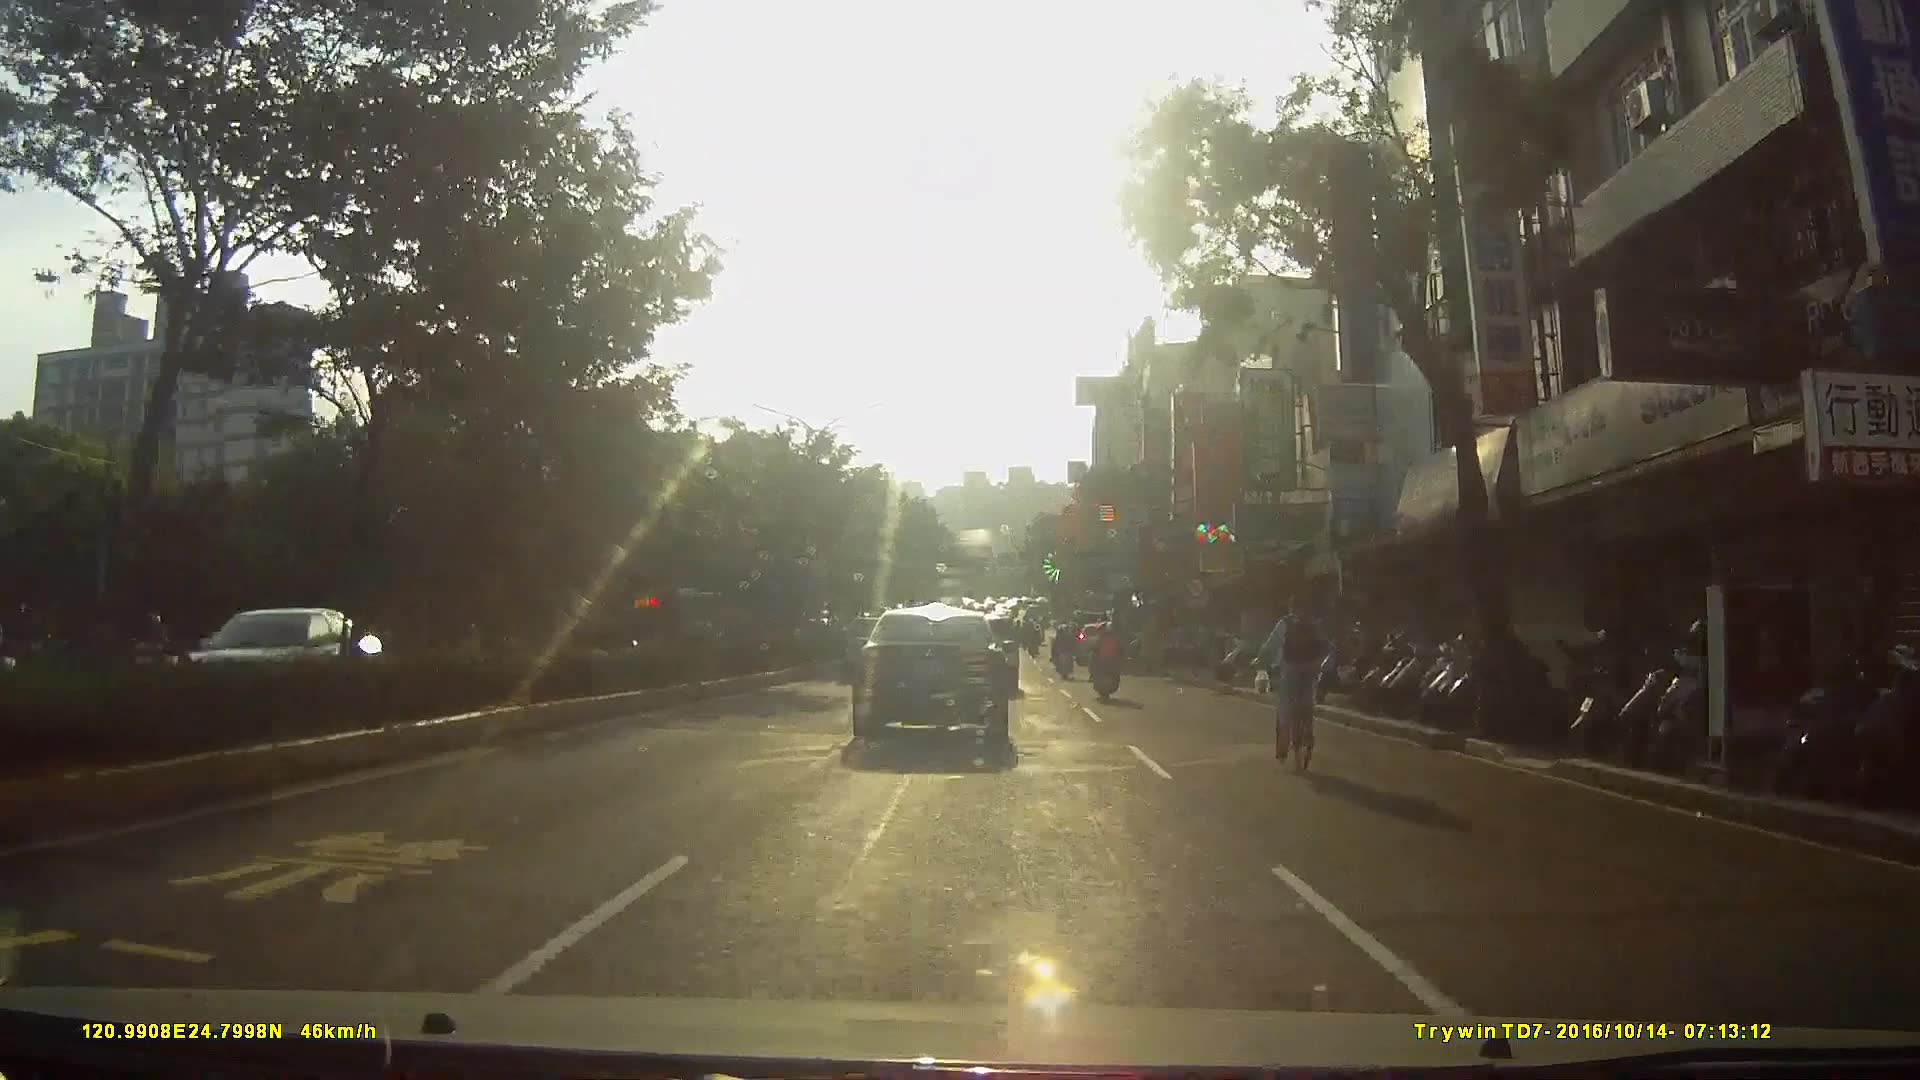rider: (1258, 589, 1336, 766), (1088, 622, 1122, 703), (1049, 621, 1077, 679)
vehicle: (157, 600, 400, 715), (854, 605, 1028, 757)
